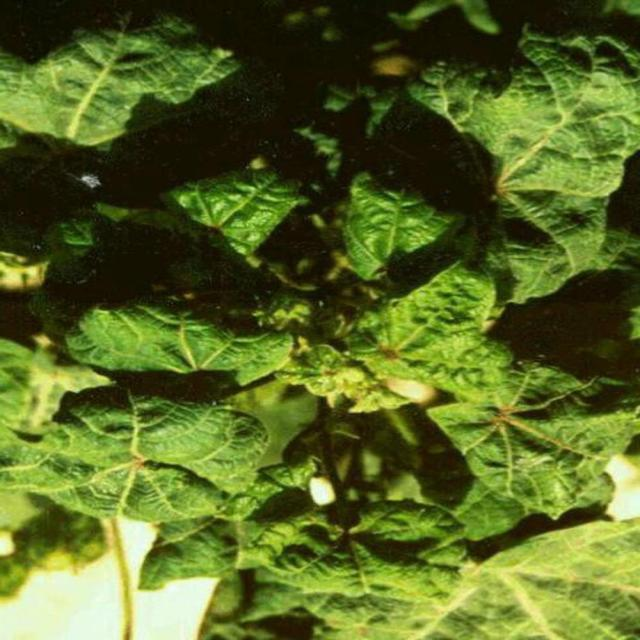Leaf Curl Virus: (90, 143, 588, 563)
